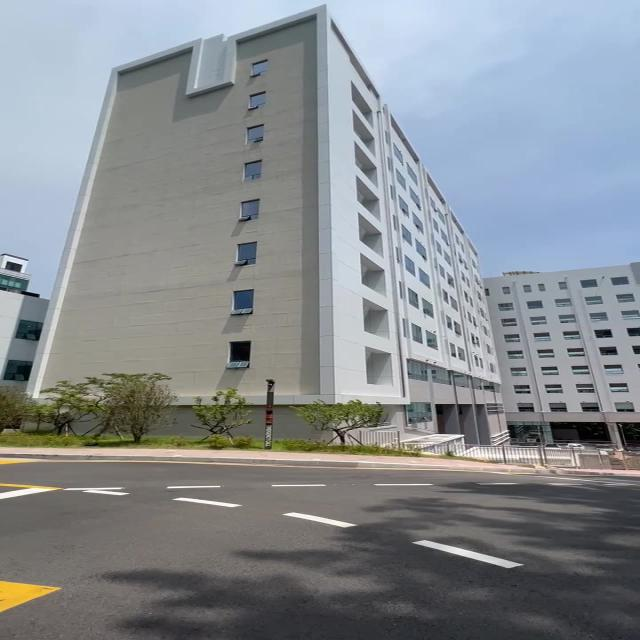building: (60, 40, 640, 413)
